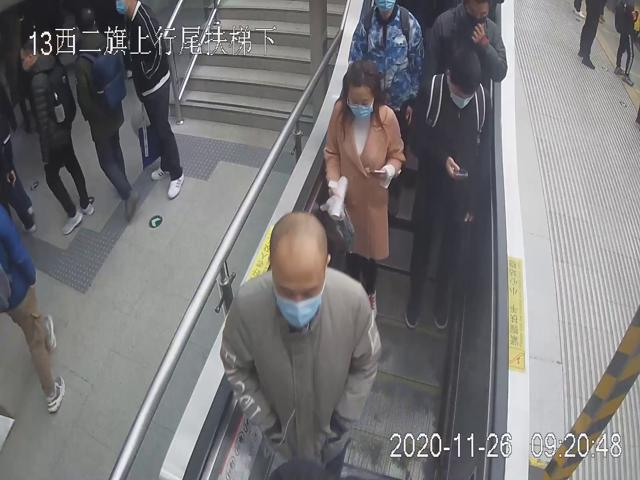person: (219, 210, 380, 480), (402, 40, 493, 331), (321, 55, 405, 320)
